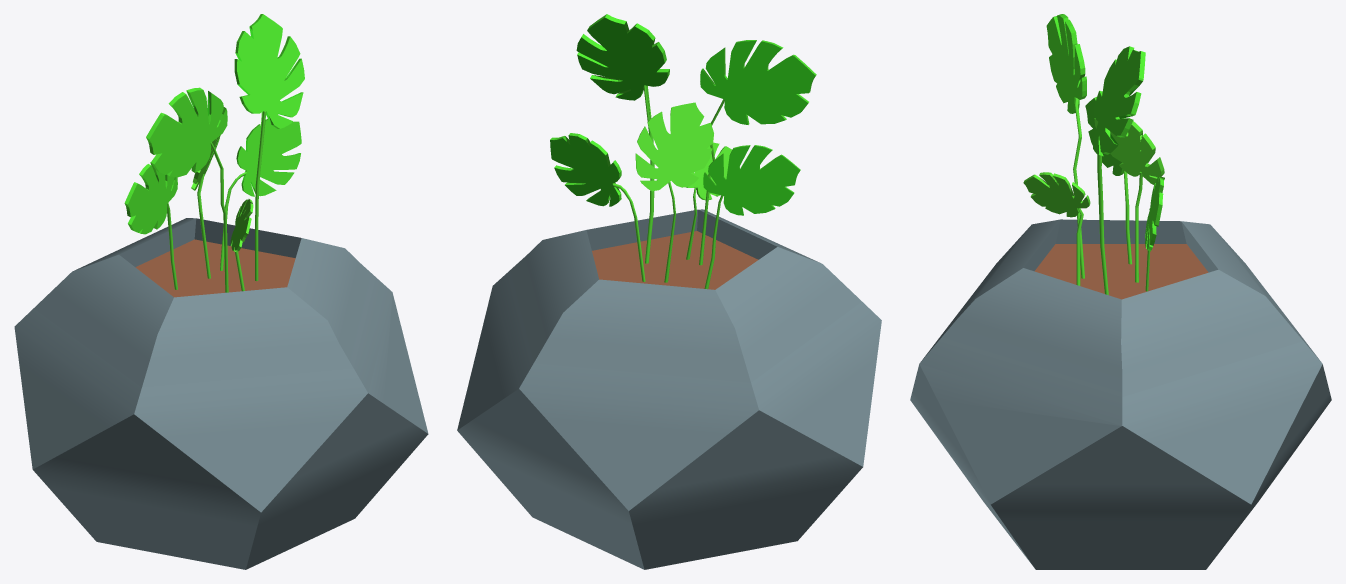
The model's file is Planta Chica.fbx.
3 views of the same model, side by side, from view 1: azimuth 30°, elevation 25°; view 2: azimuth 150°, elevation 25°; view 3: azimuth 270°, elevation 25° (orthographic). The views are drawn at different scales.
Visible parts, largest first — view 1: Icosphere; view 2: Icosphere; view 3: Icosphere.
Part boxes in pixels (box(x1,y1,x2,y2)): Icosphere: box(14, 14, 428, 569); Icosphere: box(457, 14, 881, 569); Icosphere: box(910, 14, 1331, 569).
Bounding box in the file's own units: 64.79 × 82.05 × 62.98.
1 material, 1 textured.
